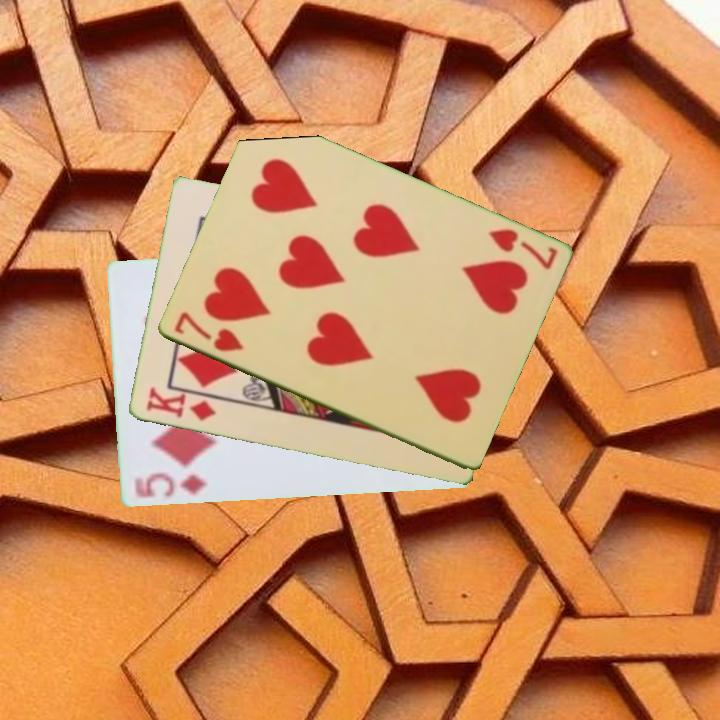5d: (130, 470, 210, 502)
7h: (484, 225, 560, 273), (170, 308, 246, 355)
Kd: (142, 384, 219, 425)
